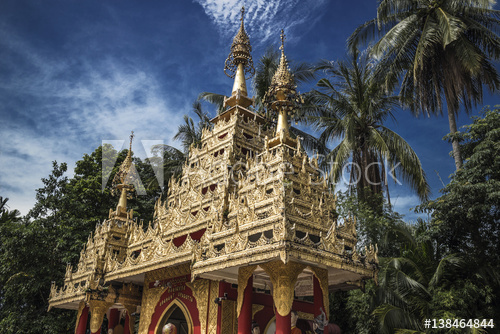Buddhist Temple: (79, 32, 335, 322)
